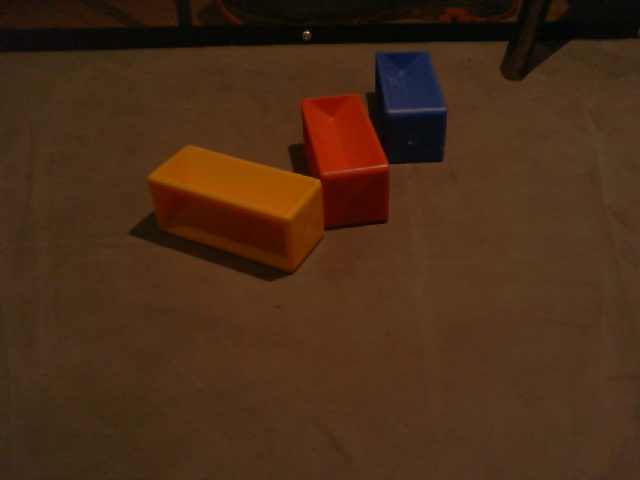BlueSample: (373, 49, 450, 166)
RedSample: (299, 92, 391, 233)
YellowSample: (143, 141, 335, 275)
